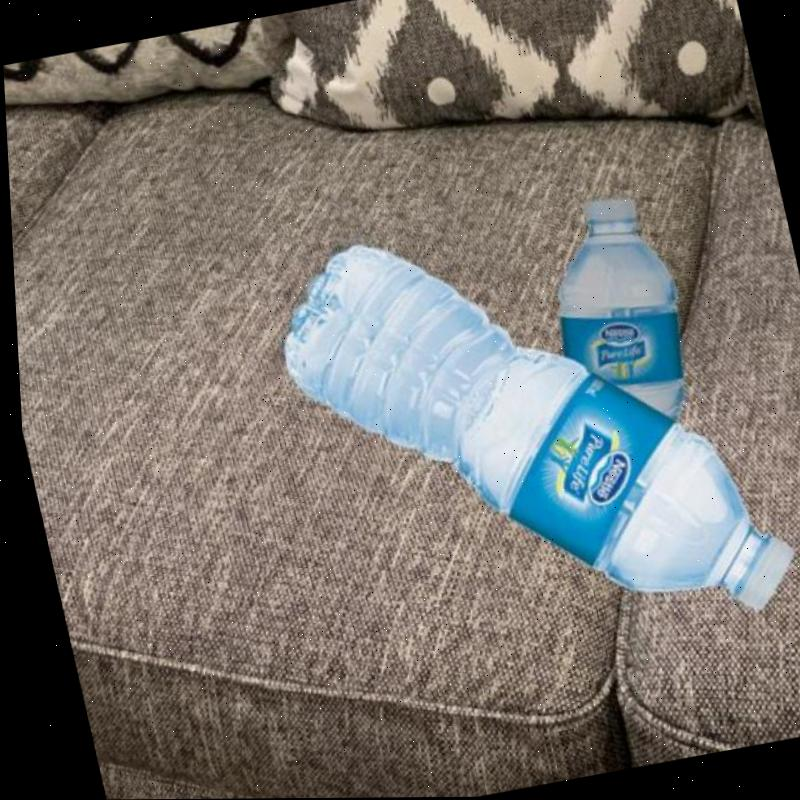botella: (257, 183, 800, 695), (523, 174, 703, 468)
